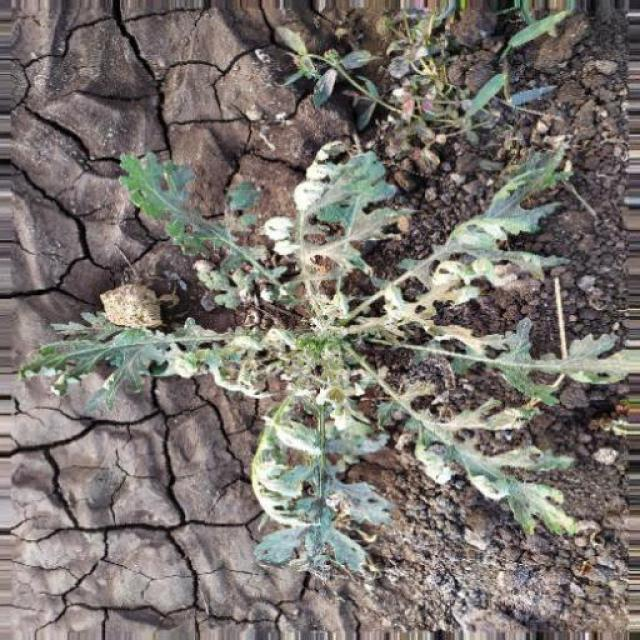weed: (28, 138, 622, 552)
